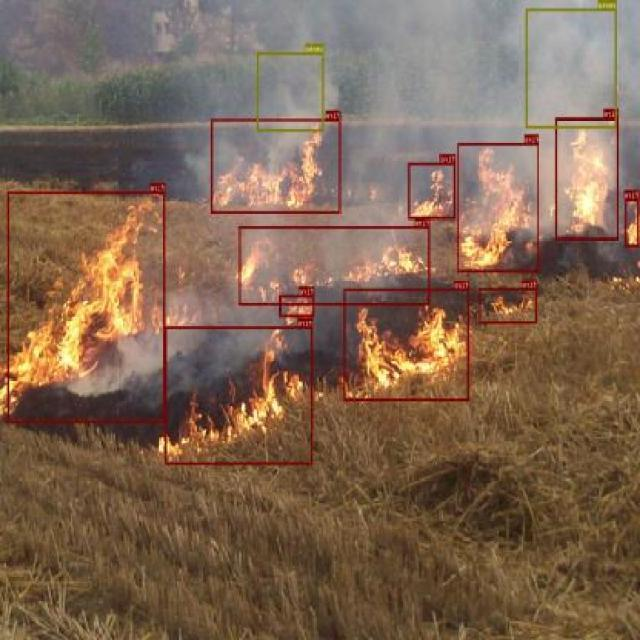Fire: (7, 192, 166, 422), (165, 326, 313, 464), (239, 226, 430, 305), (344, 288, 470, 401), (210, 119, 342, 212), (458, 142, 540, 272), (556, 118, 619, 239), (408, 162, 456, 218), (480, 288, 538, 324), (280, 294, 316, 317), (626, 198, 640, 247)
Smoke: (360, 19, 510, 133), (526, 8, 617, 128), (258, 52, 324, 132)
